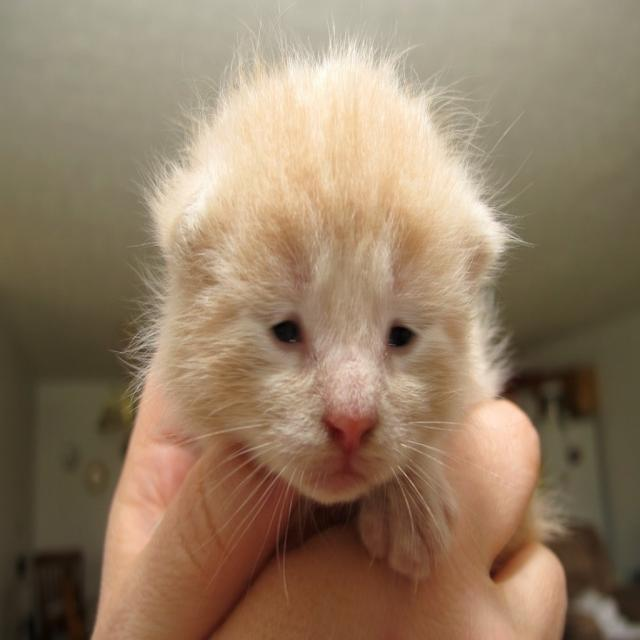rat: (103, 0, 577, 601)
